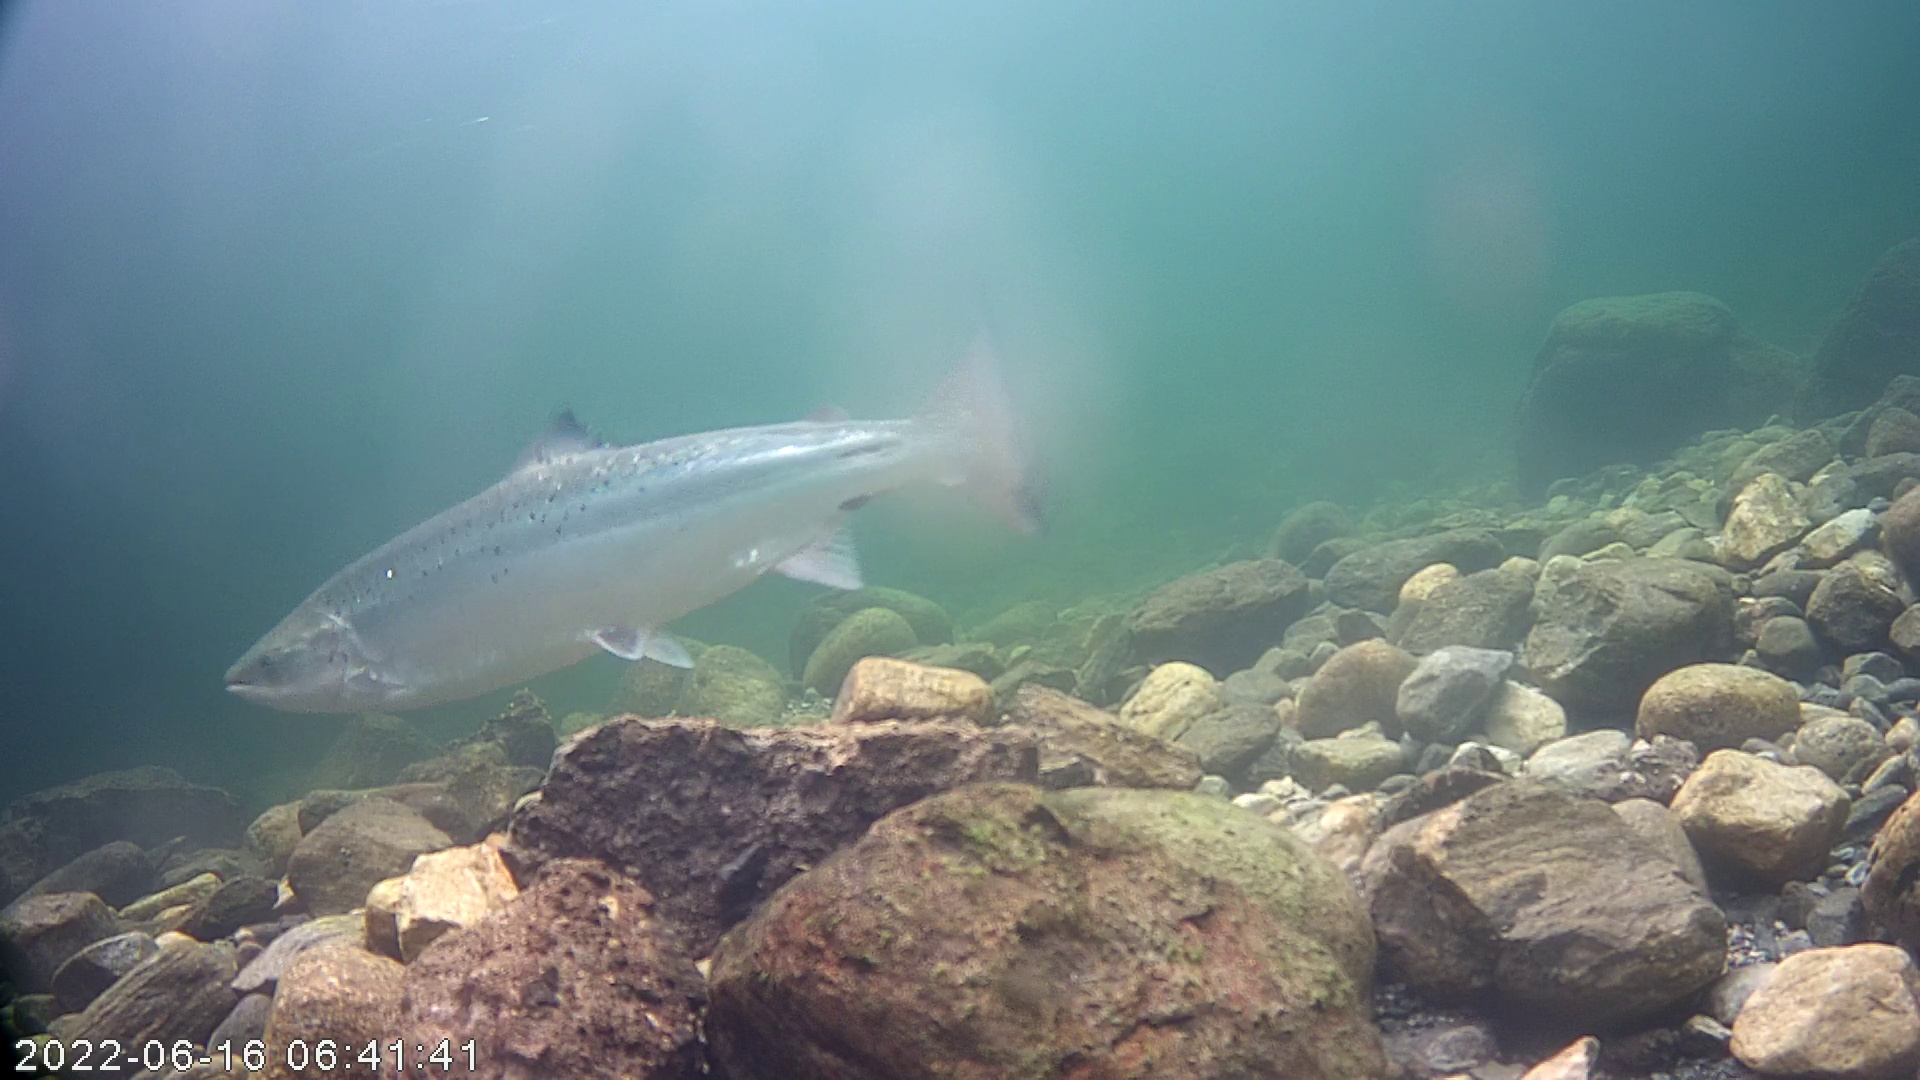salmon: (216, 320, 1048, 717)
